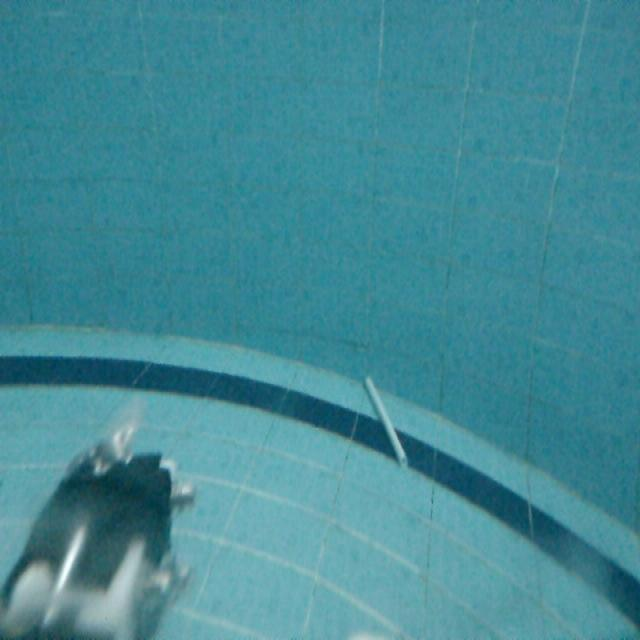Cube: (362, 372, 413, 474)
